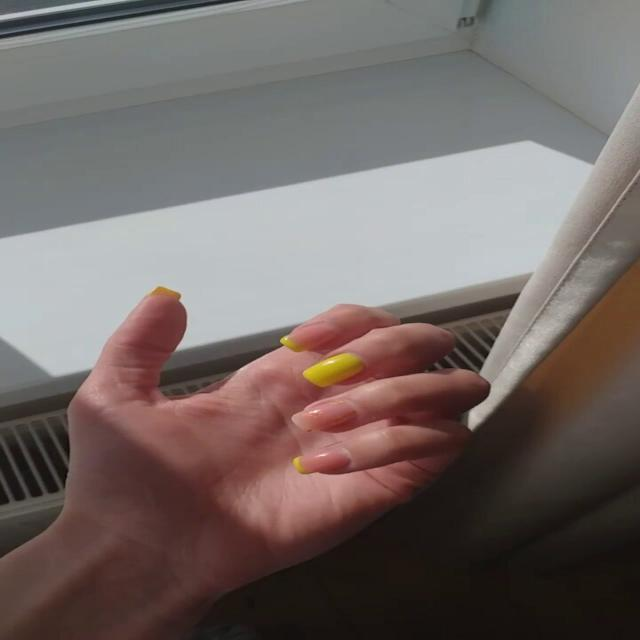Nail: (292, 396, 360, 434), (302, 354, 365, 388), (280, 321, 342, 352), (294, 449, 352, 475), (150, 286, 180, 299)
